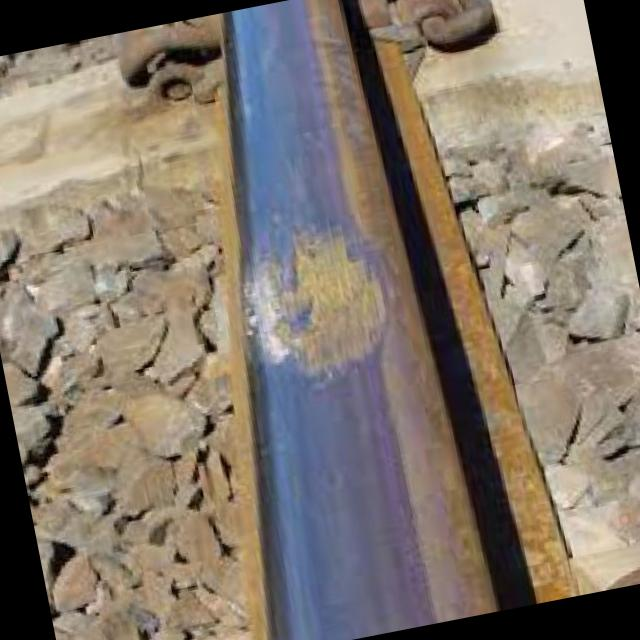defective: (180, 116, 480, 478)
